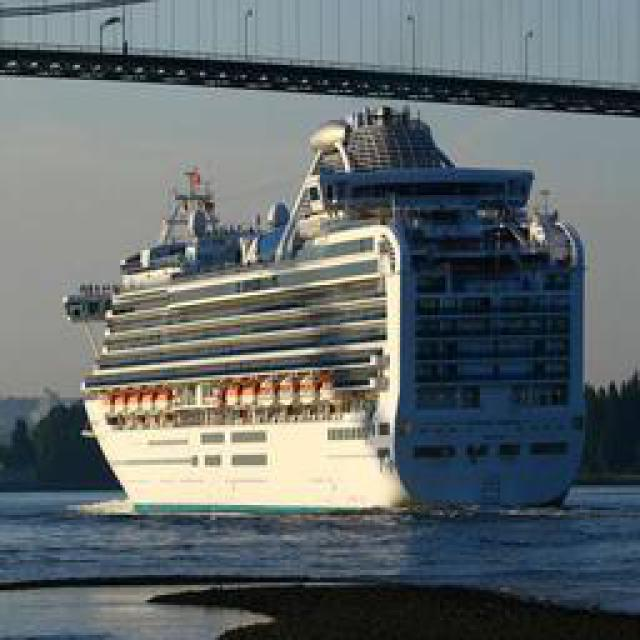Ship: (67, 110, 598, 528)
